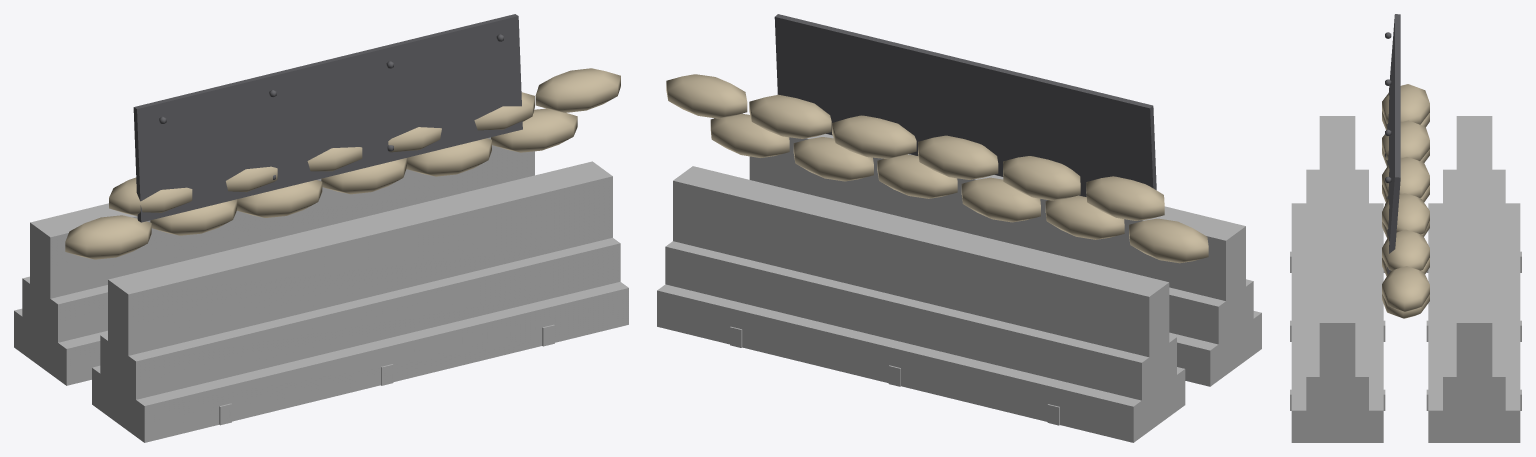
Rendered from CoverBarrier.glb.
3 views of the same model, side by side, from view 1: azimuth 30°, elevation 25°; view 2: azimuth 150°, elevation 25°; view 3: azimuth 270°, elevation 25° (orthographic). The views are drawn at different scales.
Parts seen in each view (by area): view 1: CoverBarrier_cube.002, CoverBarrier_cube.012, CoverBarrier_cube.001, CoverBarrier_cube, CoverBarrier_cube.008, CoverBarrier_cube.007, CoverBarrier_cube.006, CoverBarrier_sphere, CoverBarrier_sphere.011, CoverBarrier_sphere.010, CoverBarrier_sphere.004, CoverBarrier_sphere.008 (+7 smaller); view 2: CoverBarrier_cube.008, CoverBarrier_cube.012, CoverBarrier_cube.007, CoverBarrier_cube.006, CoverBarrier_cube.002, CoverBarrier_cube.001, CoverBarrier_cube, CoverBarrier_sphere.007, CoverBarrier_sphere.011, CoverBarrier_sphere.009, CoverBarrier_sphere, CoverBarrier_sphere.005 (+7 smaller); view 3: CoverBarrier_cube.002, CoverBarrier_cube.008, CoverBarrier_cube, CoverBarrier_cube.006, CoverBarrier_cube.007, CoverBarrier_cube.001, CoverBarrier_cube.012, CoverBarrier_sphere.011, CoverBarrier_sphere.009, CoverBarrier_sphere.007, CoverBarrier_sphere.001, CoverBarrier_sphere.005 (+2 smaller).
Part boxes in pixels (box(x1,y1,x2,y2)): CoverBarrier_cube.002: box(108, 161, 612, 355); CoverBarrier_cube.012: box(133, 14, 522, 222); CoverBarrier_cube.001: box(100, 237, 620, 400); CoverBarrier_cube: box(92, 281, 628, 442); CoverBarrier_cube.008: box(30, 137, 534, 300); CoverBarrier_cube.007: box(22, 276, 107, 342); CoverBarrier_cube.006: box(14, 308, 107, 385); CoverBarrier_sphere: box(65, 215, 151, 259); CoverBarrier_sphere.011: box(535, 68, 620, 112); CoverBarrier_sphere.010: box(491, 108, 577, 152); CoverBarrier_sphere.004: box(237, 180, 322, 217); CoverBarrier_sphere.008: box(406, 138, 491, 176); CoverBarrier_cube.008: box(673, 166, 1169, 359); CoverBarrier_cube.012: box(774, 14, 1156, 196); CoverBarrier_cube.007: box(665, 241, 1176, 400); CoverBarrier_cube.006: box(657, 284, 1185, 442); CoverBarrier_cube.002: box(749, 134, 1245, 303); CoverBarrier_cube.001: box(1169, 279, 1253, 345); CoverBarrier_cube: box(1169, 311, 1261, 386); CoverBarrier_sphere.007: box(832, 115, 916, 158); CoverBarrier_sphere.011: box(666, 74, 747, 118); CoverBarrier_sphere.009: box(749, 94, 831, 138); CoverBarrier_sphere: box(1129, 218, 1208, 263); CoverBarrier_sphere.005: box(918, 135, 998, 179); CoverBarrier_cube.002: box(1319, 116, 1355, 379); CoverBarrier_cube.008: box(1456, 116, 1492, 379); CoverBarrier_cube: box(1291, 203, 1383, 442); CoverBarrier_cube.006: box(1428, 203, 1520, 442); CoverBarrier_cube.007: box(1443, 169, 1505, 411); CoverBarrier_cube.001: box(1306, 169, 1368, 411); CoverBarrier_cube.012: box(1387, 14, 1400, 273); CoverBarrier_sphere.011: box(1382, 266, 1429, 311); CoverBarrier_sphere.009: box(1382, 229, 1429, 270); CoverBarrier_sphere.007: box(1382, 193, 1429, 234); CoverBarrier_sphere.001: box(1382, 84, 1429, 124); CoverBarrier_sphere.005: box(1382, 157, 1429, 197).
Bounding box in the file's own units: 3.77 × 1.81 × 1.56.
